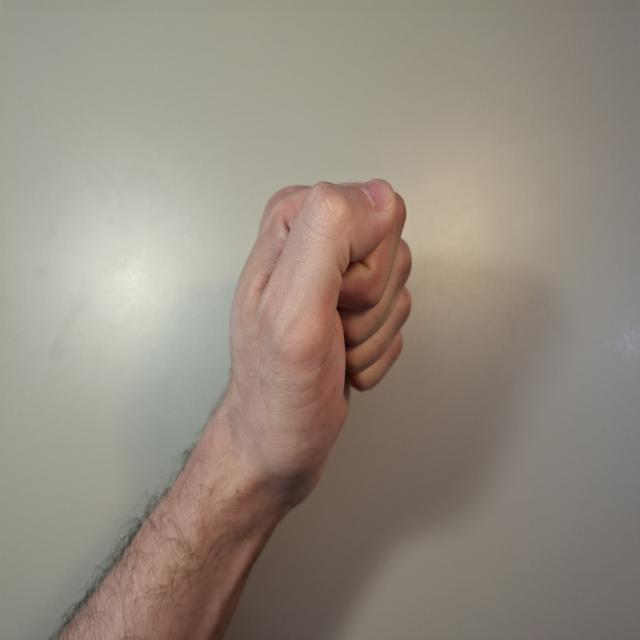glove_off: (214, 174, 416, 518)
